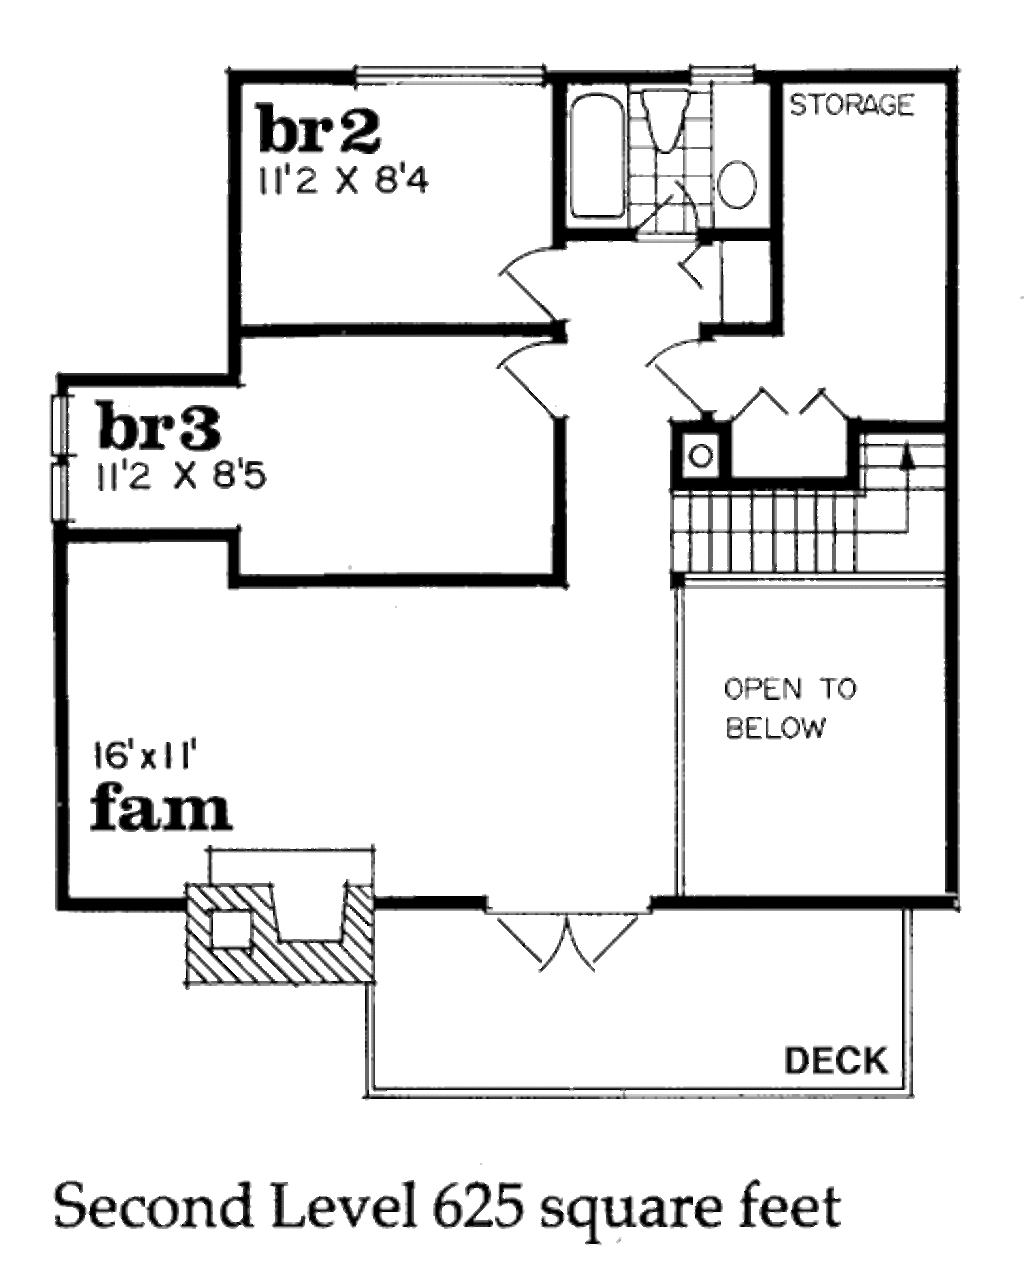door: (491, 898, 644, 978), (732, 374, 851, 429), (495, 338, 565, 421), (499, 241, 567, 321), (649, 341, 718, 417), (638, 186, 702, 241)
large_sink: (636, 80, 702, 161)
small_sink: (716, 123, 779, 227)
stairs: (661, 425, 957, 598)
tub: (567, 82, 630, 229)
window: (351, 55, 549, 96), (48, 455, 77, 519), (689, 66, 755, 90), (49, 394, 75, 455)
